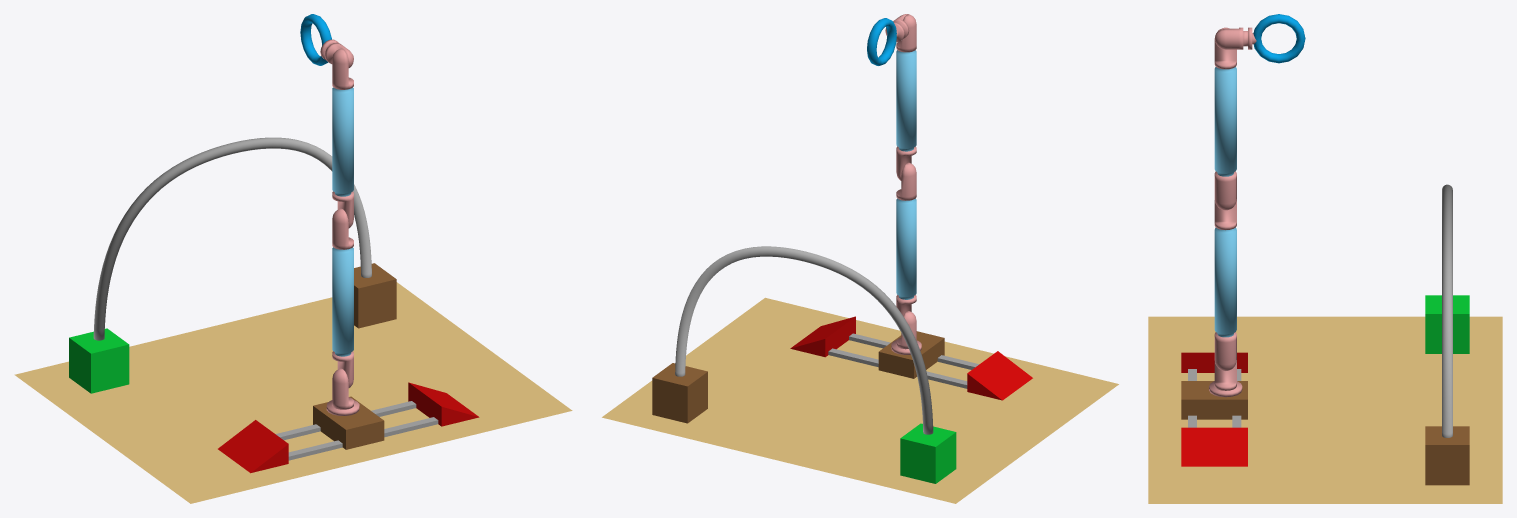
Rendered from wire loop_simple.dae.
3 views of the same model, side by side, from view 1: azimuth 30°, elevation 25°; view 2: azimuth 150°, elevation 25°; view 3: azimuth 270°, elevation 25° (orthographic). The views are drawn at different scales.
Visible parts, largest first — view 1: Floor, Wire, Arm2, Arm1, Finish, RailStopLeft, Start, Roboterarm, Rail, RailStopRight, ArmBase, ArmRing; view 2: Floor, Wire, Arm1, Arm2, Finish, Start, RailStopLeft, Roboterarm, RailStopRight, Rail, ArmRing; view 3: Floor, Arm2, Arm1, Wire, RailStopRight, Start, Roboterarm, Finish, ArmRing, RailStopLeft, ArmBase, ArmTop (+1 smaller).
Boxes of the visible parts, x1,y1,x2,y2 form: Floor: (14,282,572,503); Wire: (93,137,371,340); Arm2: (332,48,353,228); Arm1: (332,208,353,387); Finish: (69,328,129,393); RailStopLeft: (218,420,288,473); Start: (354,263,396,328); Roboterarm: (313,396,384,449); Rail: (275,401,438,460); RailStopRight: (408,382,479,426); ArmBase: (326,368,359,415); ArmRing: (300,14,331,65); Floor: (602,297,1118,503); Wire: (675,246,933,434); Arm1: (896,162,916,315); Arm2: (896,14,916,180); Finish: (900,423,956,483); Start: (652,363,707,423); RailStopLeft: (967,351,1032,400); Roboterarm: (878,331,944,378); RailStopRight: (790,316,855,357); Rail: (828,333,978,388); ArmRing: (867,18,896,65); Floor: (1148,316,1502,503); Arm2: (1214,27,1236,210); Arm1: (1214,199,1236,370); Wire: (1442,184,1452,437); RailStopRight: (1181,427,1247,466); Start: (1425,426,1469,485); Roboterarm: (1181,381,1247,419); Finish: (1425,295,1469,353); ArmRing: (1253,14,1305,63); RailStopLeft: (1181,352,1247,372); ArmBase: (1209,360,1242,397); ArmTop: (1214,27,1247,49).
Size of the model in its own units: 20 by 16 by 19.7.
